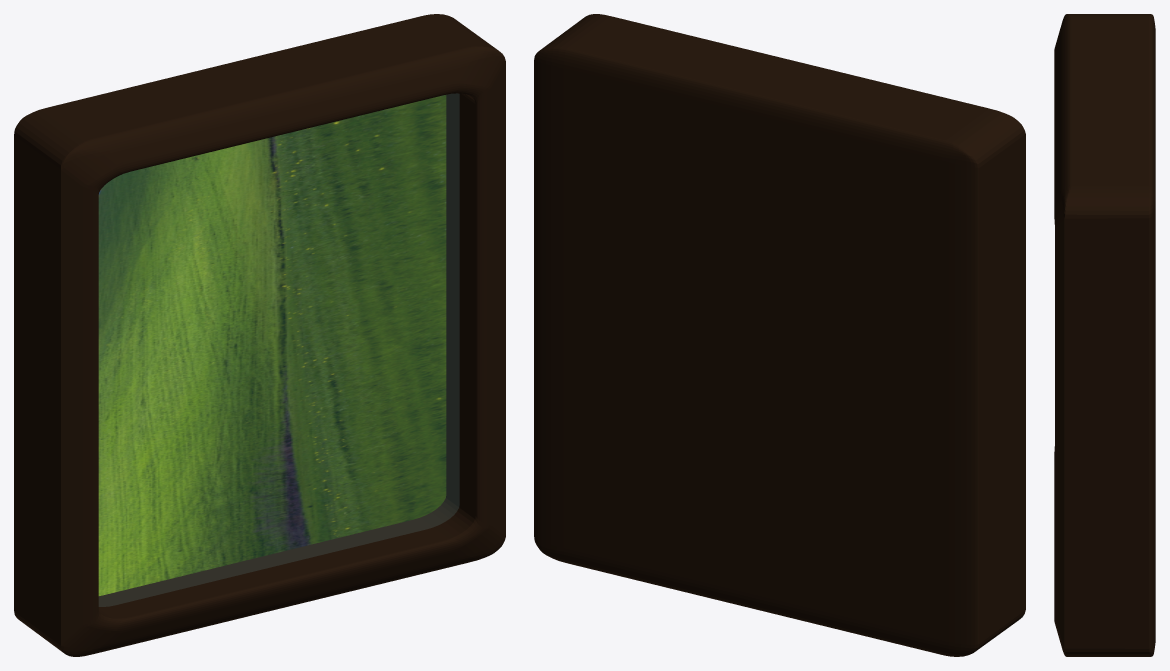
Rendered from cornice.obj.
The picture shows the model from 3 angles, left to right: view 1: azimuth 30°, elevation 25°; view 2: azimuth 150°, elevation 25°; view 3: azimuth 270°, elevation 25°; orthographic projection. The views are drawn at different scales.
Visible parts, largest first — view 1: vetro_Plane.002, foto_Plane.001, cornice_Plane; view 2: cornice_Plane; view 3: cornice_Plane.
Part boxes in pixels (left/top/right/bottom): vetro_Plane.002: left=99, top=94, right=458, bottom=606; foto_Plane.001: left=98, top=95, right=446, bottom=595; cornice_Plane: left=14, top=14, right=505, bottom=656; cornice_Plane: left=534, top=14, right=1025, bottom=656; cornice_Plane: left=1054, top=14, right=1155, bottom=656.
Bounding box in the file's own units: 1.61 × 1.78 × 0.3525.
Materials: 3 (1 with a texture image).
